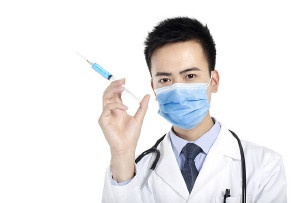Mask: (149, 68, 210, 128)
